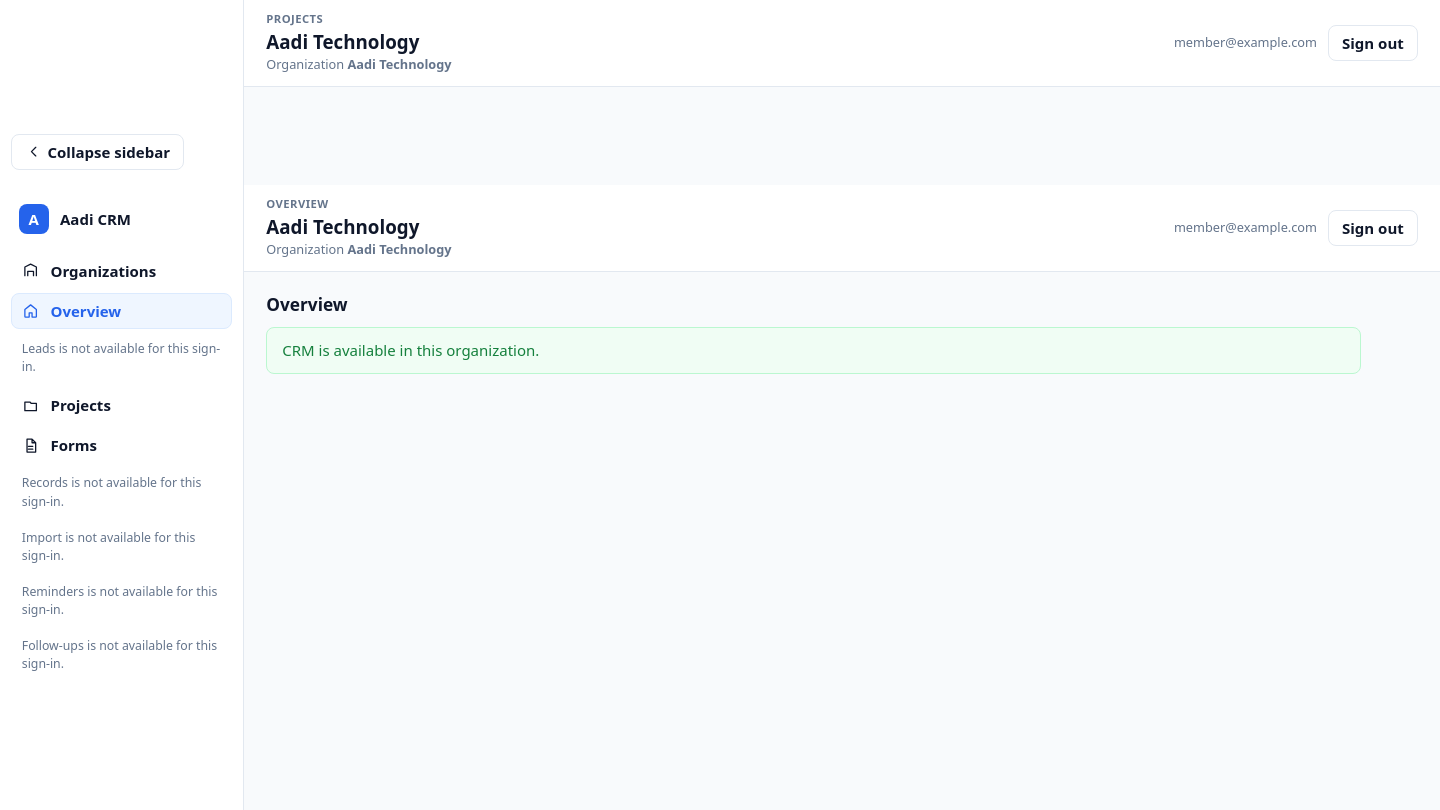
shell project entry › opens projects from the shell for project access and hides them for lead read
(page scrolled)
Click the link "Projects" at (66,405), box [22,395,111,415]
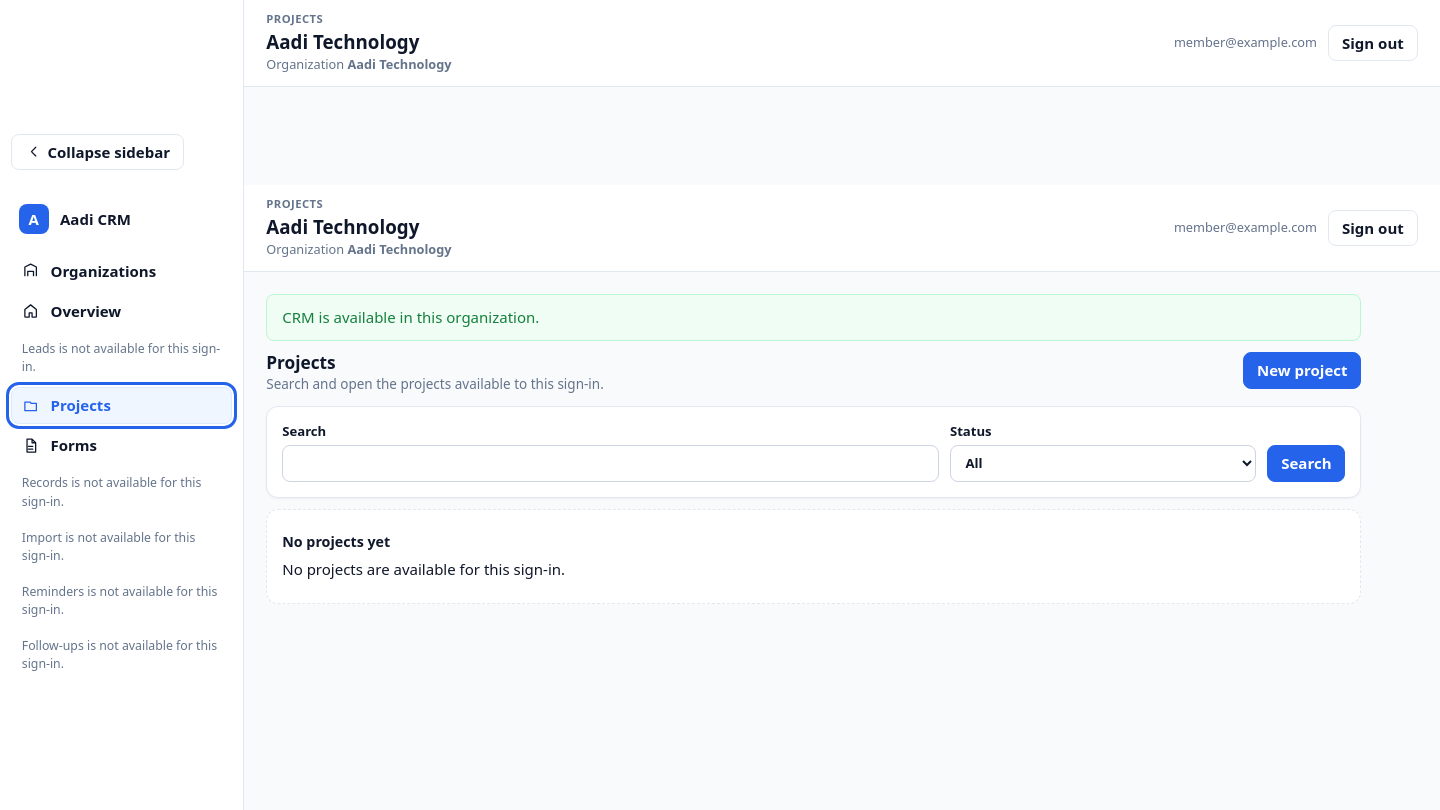
Check: the heading "Projects" is shown, box [266,351,336,374]
Check: the text "No projects are available for this sign-in." is shown, box [282,559,565,579]
